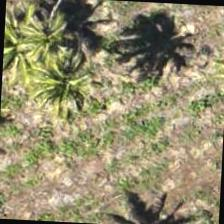Kelapa_Sawit: (14, 36, 109, 131), (1, 0, 93, 86), (1, 3, 56, 94)
